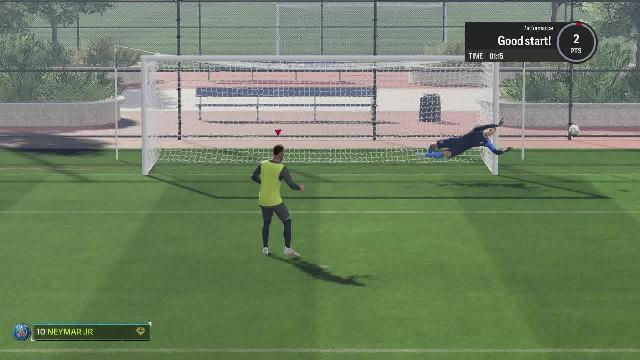football: (566, 124, 582, 139)
goal-bottom-left: (148, 118, 262, 174)
goal-bottom-right: (374, 117, 488, 173)
goal-middle-down: (260, 120, 372, 178)
goal-middle-up: (260, 59, 376, 123)
goal-top-left: (146, 61, 260, 117)
goal-top-right: (376, 61, 490, 117)
goalkeeper: (380, 90, 488, 170)
player: (248, 146, 304, 260)
